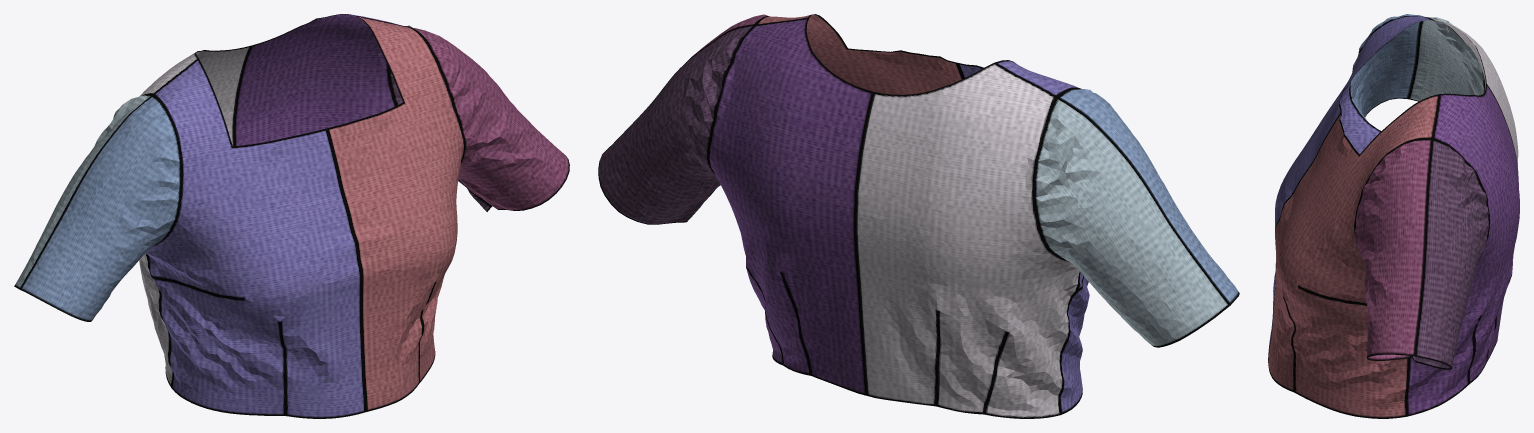
Rendered from valid_garment_upper_sim.obj.
3 renders of one model, left to right at view 1: azimuth 30°, elevation 25°; view 2: azimuth 150°, elevation 25°; view 3: azimuth 270°, elevation 25°, orthographic. The views are drawn at different scales.
Size of the model in its own units: 67.65 by 37.25 by 27.79.
Materials: 1 (1 with a texture image).
